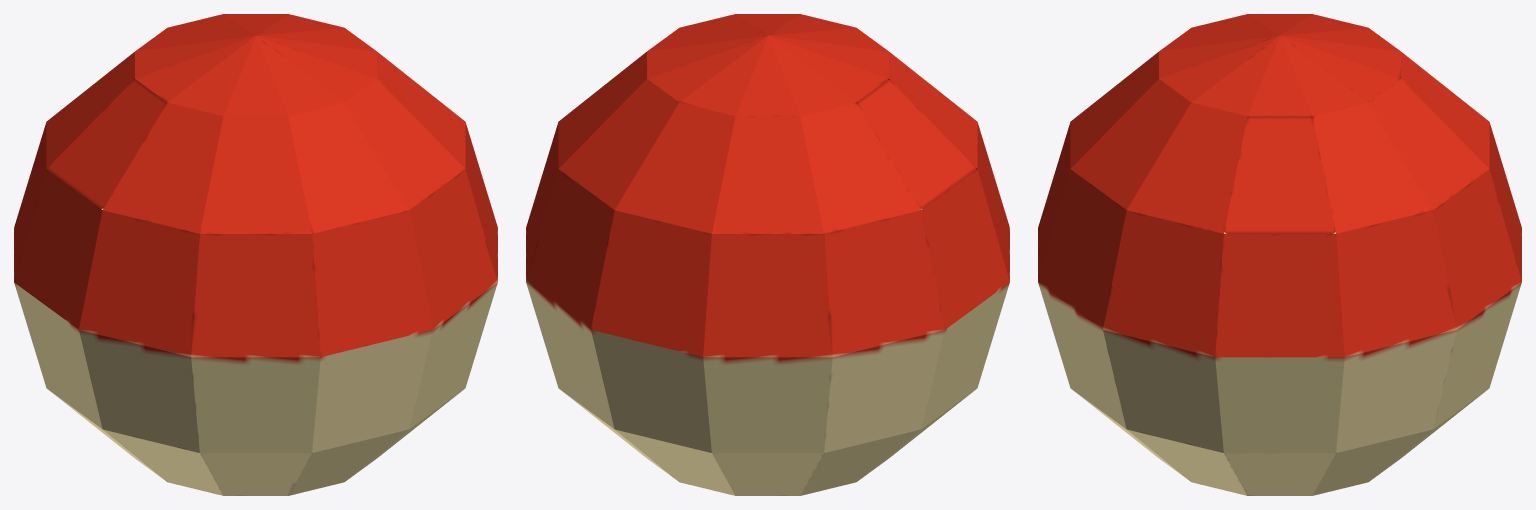
Rendered from nyc_subway_entrance_1_globe_light_1r_light_layer.obj.
3 renders of one model, left to right at view 1: azimuth 30°, elevation 25°; view 2: azimuth 150°, elevation 25°; view 3: azimuth 270°, elevation 25°, orthographic.
Parts seen in each view (by area): view 1: sphere; view 2: sphere; view 3: sphere.
Boxes of the visible parts, x1,y1,x2,y2 form: sphere: (14, 14, 497, 495); sphere: (526, 14, 1009, 495); sphere: (1038, 14, 1521, 495).
Bounding box in the file's own units: 0.5006 × 0.5006 × 0.5006.
Materials: 1 (1 with a texture image).
